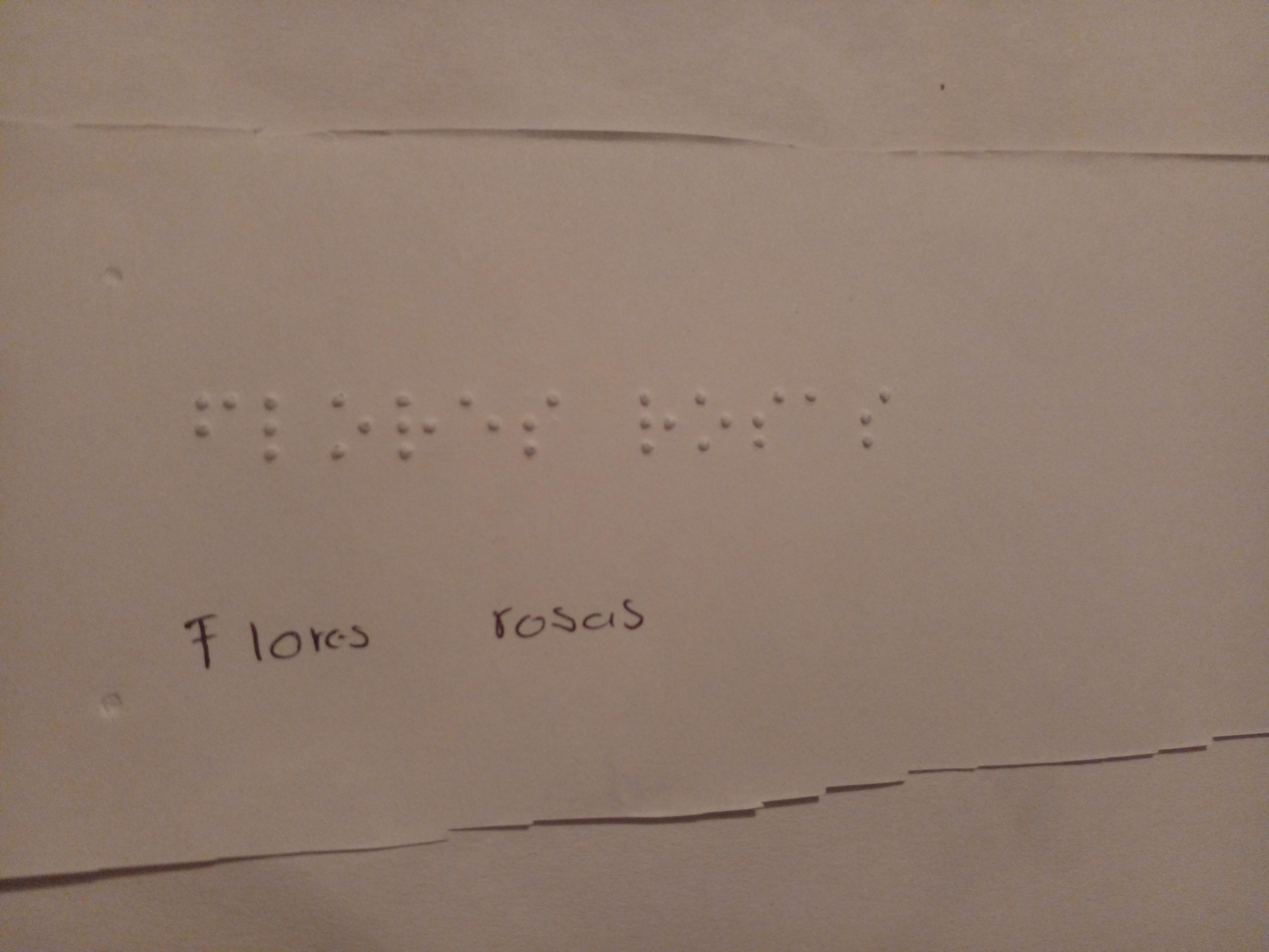a: (796, 384, 830, 432)
f: (181, 381, 257, 460)
l: (249, 383, 291, 483)
o: (316, 380, 376, 482), (688, 386, 737, 462)
r: (384, 377, 454, 493), (452, 383, 505, 466), (627, 390, 680, 462)
s: (736, 373, 793, 459), (516, 386, 573, 460), (849, 384, 900, 457)
